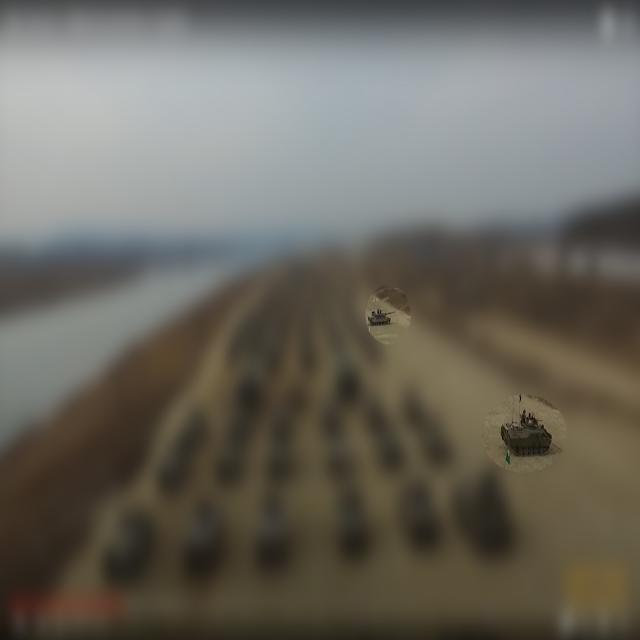tank: (499, 415, 552, 462), (366, 303, 397, 332)
